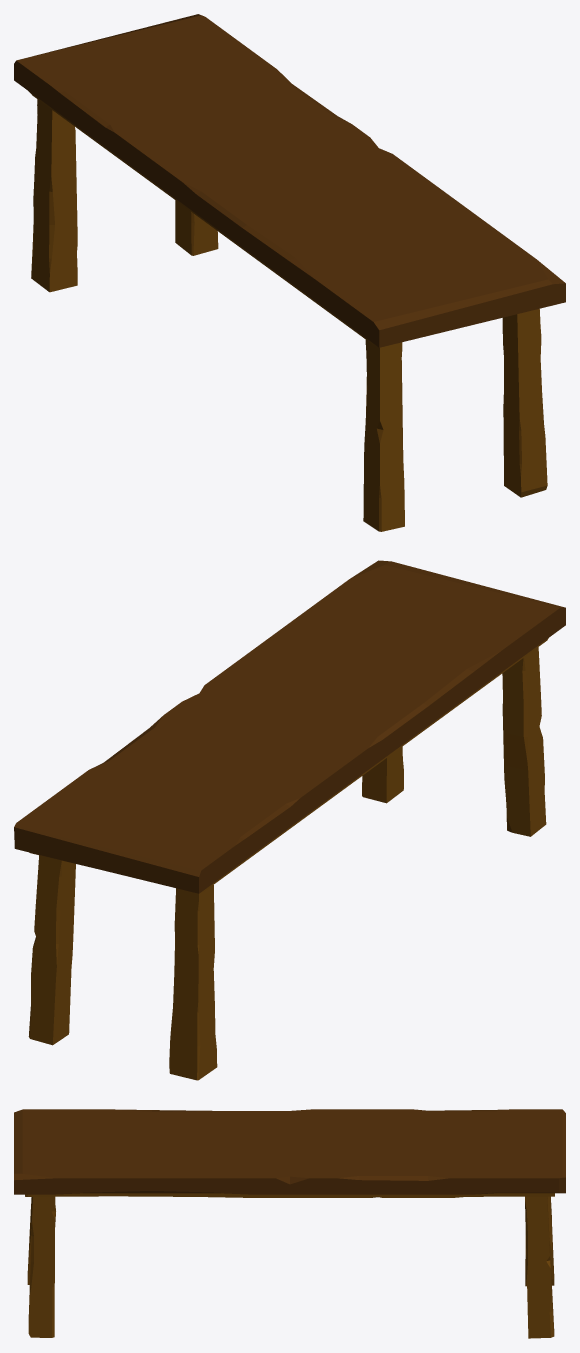
The model's file is BPW_Table.fbx.
3 views of the same model, one above another, from view 1: azimuth 30°, elevation 25°; view 2: azimuth 150°, elevation 25°; view 3: azimuth 270°, elevation 25° (orthographic). The views are drawn at different scales.
Visible parts, largest first — view 1: Cube, Cube.003; view 2: Cube, Cube.003; view 3: Cube, Cube.003.
Part boxes in pixels (bbox=[...]): Cube: bbox=[14, 14, 565, 347]; Cube.003: bbox=[28, 91, 547, 531]; Cube: bbox=[14, 560, 565, 893]; Cube.003: bbox=[28, 638, 548, 1080]; Cube: bbox=[14, 1109, 565, 1194]; Cube.003: bbox=[25, 1193, 554, 1338].
Size of the model in its own units: 359 by 398 by 1218.
